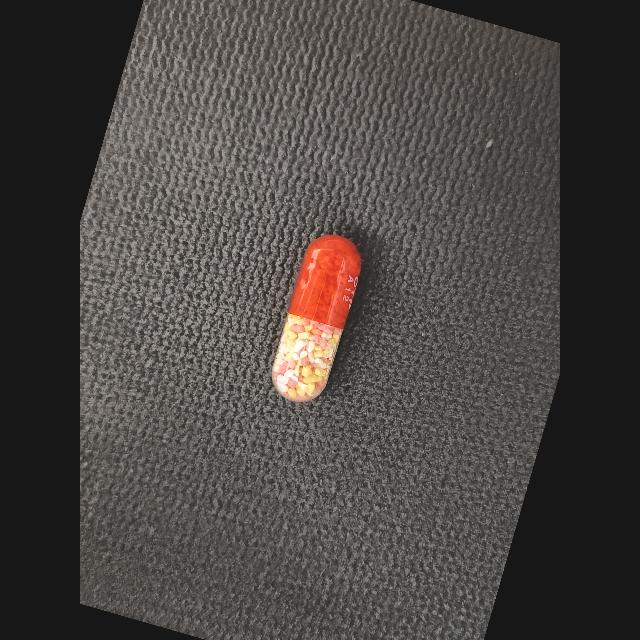Intact Capsule: (272, 235, 362, 402)
